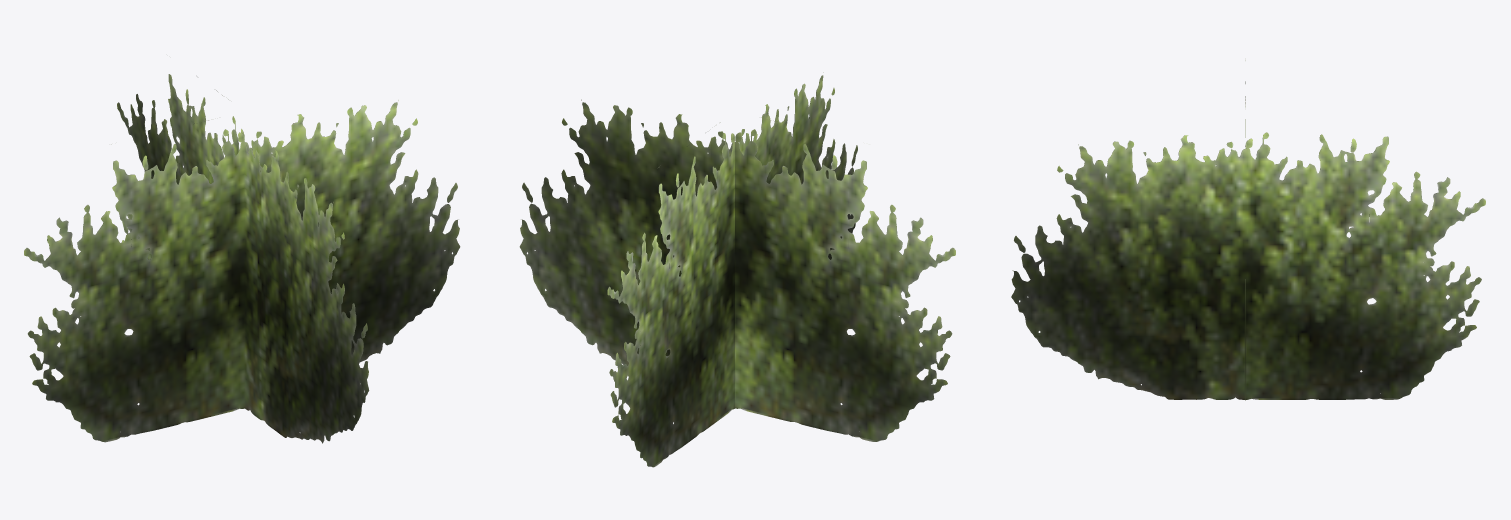
File: Bush_1.fbx
3 views of the same model, side by side, from view 1: azimuth 30°, elevation 25°; view 2: azimuth 150°, elevation 25°; view 3: azimuth 270°, elevation 25° (orthographic). The views are drawn at different scales.
Visible parts, largest first — view 1: Bush_1; view 2: Bush_1; view 3: Bush_1.
Boxes of the visible parts, x1,y1,x2,y2 form: Bush_1: [24, 74, 460, 443]; Bush_1: [519, 72, 955, 467]; Bush_1: [1011, 58, 1485, 400].
Size of the model in its own units: 2 by 1.23 by 2.
